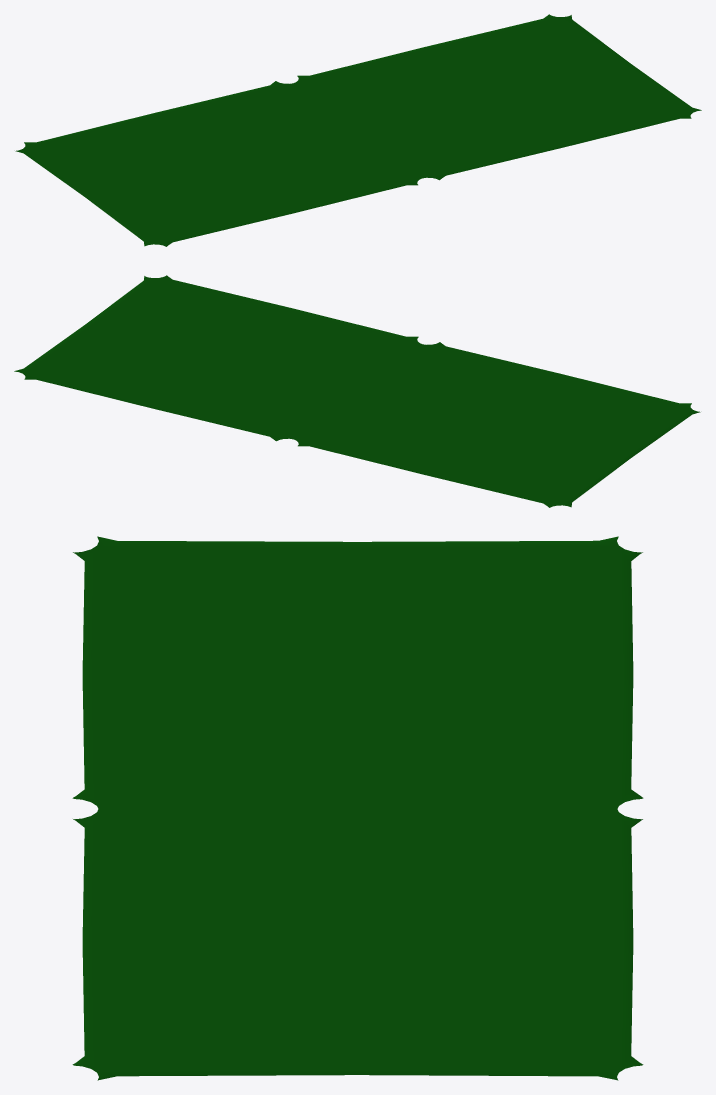
3 renders of one model, top to bottom at view 1: azimuth 30°, elevation 25°; view 2: azimuth 150°, elevation 25°; view 3: azimuth 270°, elevation 25°, orthographic. The views are drawn at different scales.
Visible parts, largest first — view 1: Base; view 2: Base; view 3: Base.
Part boxes in pixels (box(x1,y1,x2,y2)): Base: box(15, 14, 701, 246); Base: box(14, 275, 700, 507); Base: box(72, 536, 643, 1080).
Size of the model in its own units: 2.75 by 0.0015 by 1.22.
